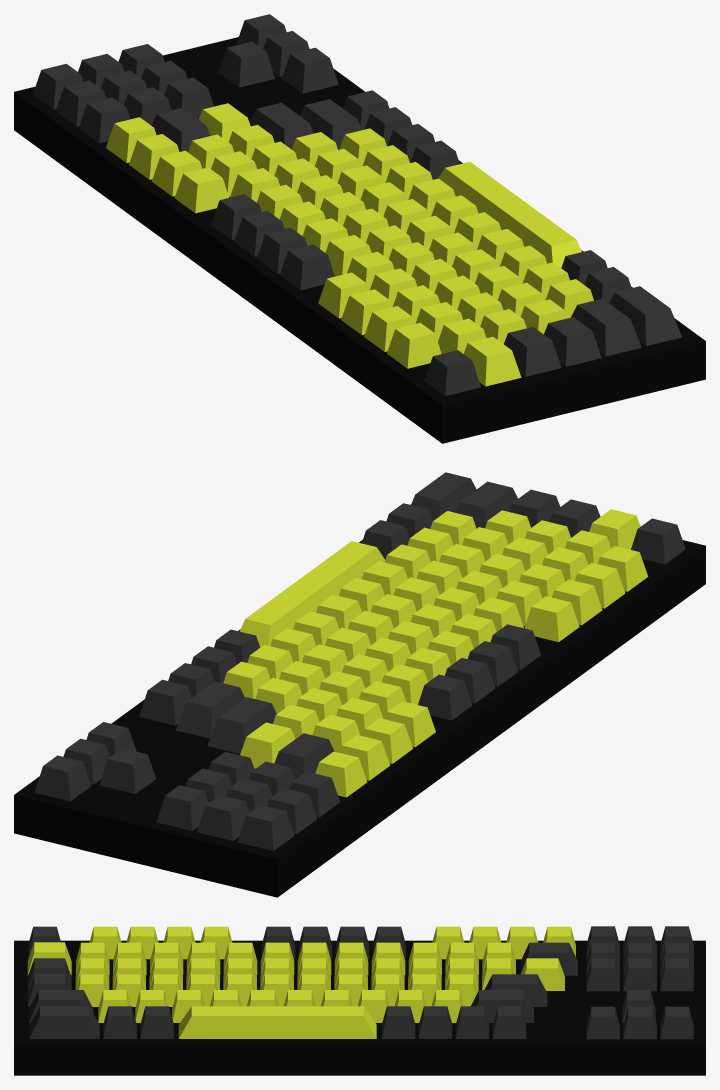
Rendered from Tastiera2.dae.
3 renders of one model, top to bottom at view 1: azimuth 30°, elevation 25°; view 2: azimuth 150°, elevation 25°; view 3: azimuth 270°, elevation 25°, orthographic. The views are drawn at different scales.
Visible parts, largest first — view 1: Tastiera_004; view 2: Tastiera_004; view 3: Tastiera_004.
Part boxes in pixels (left/top/right/bottom): Tastiera_004: left=14, top=14, right=705, bottom=443; Tastiera_004: left=14, top=472, right=705, bottom=897; Tastiera_004: left=14, top=926, right=705, bottom=1075.
Bounding box in the file's own units: 0.2017 × 0.5681 × 0.0469.
